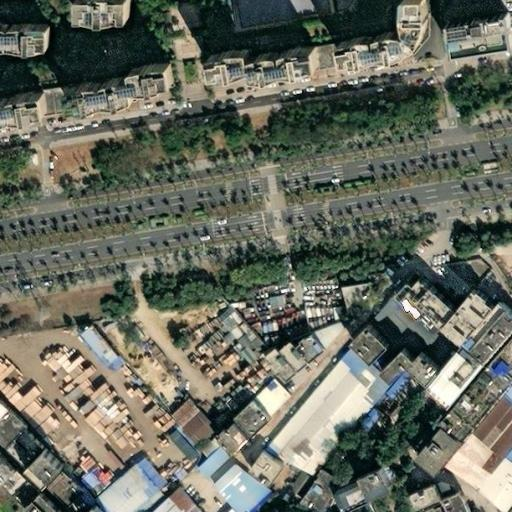building: (256, 346, 385, 479), (89, 430, 192, 512), (70, 57, 183, 113), (340, 0, 429, 67), (442, 438, 512, 512), (5, 375, 71, 443), (206, 48, 314, 85), (431, 350, 488, 409), (394, 274, 453, 331), (73, 377, 130, 435), (203, 464, 267, 512), (370, 300, 423, 352), (467, 309, 512, 369), (468, 399, 512, 460), (408, 425, 455, 474), (162, 398, 209, 446), (99, 415, 146, 463), (456, 27, 512, 66), (74, 326, 120, 373), (310, 311, 353, 350), (6, 430, 45, 469), (231, 402, 270, 441), (245, 378, 283, 415), (359, 333, 397, 370), (297, 473, 333, 512), (389, 354, 424, 392), (411, 328, 446, 363), (466, 297, 500, 332), (249, 453, 283, 487), (450, 316, 484, 350), (333, 480, 369, 512), (40, 460, 73, 494), (262, 350, 293, 384), (217, 426, 249, 458), (368, 475, 400, 507), (363, 392, 396, 423), (190, 447, 221, 479), (271, 466, 303, 497), (151, 490, 196, 512), (101, 0, 158, 17), (276, 343, 305, 374), (415, 361, 445, 390), (337, 283, 368, 311), (294, 337, 323, 366), (218, 382, 247, 408), (493, 347, 512, 386), (230, 322, 255, 350), (413, 491, 441, 512), (352, 406, 375, 430), (52, 484, 76, 507), (376, 379, 398, 401), (222, 326, 243, 349), (34, 497, 64, 512), (498, 440, 512, 469), (194, 440, 212, 459), (232, 345, 249, 363), (446, 498, 466, 512), (71, 491, 87, 508), (315, 499, 334, 512)
